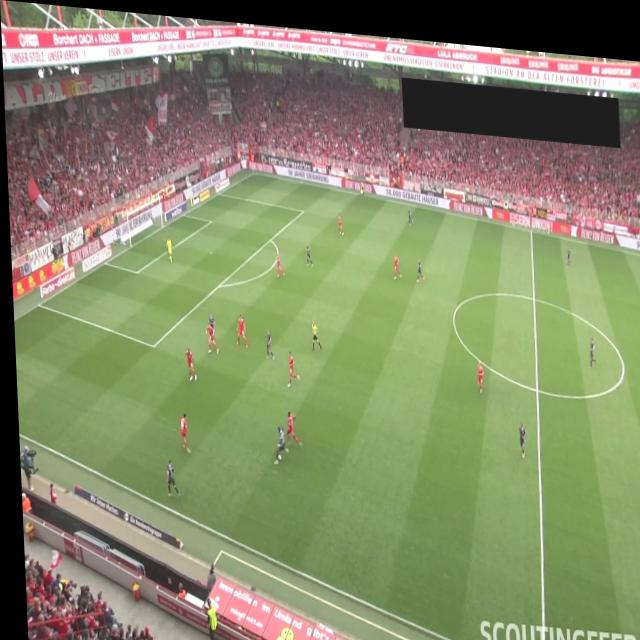goalkeeper: (163, 233, 171, 261)
player: (268, 419, 285, 460), (281, 405, 299, 443), (161, 456, 176, 497), (283, 346, 297, 383), (176, 408, 187, 451), (182, 343, 195, 378), (232, 309, 245, 344), (202, 318, 216, 350), (515, 412, 524, 449), (263, 323, 272, 356), (474, 350, 482, 385), (413, 249, 423, 275), (273, 247, 283, 273), (585, 325, 593, 356), (391, 246, 399, 273), (205, 309, 212, 339), (303, 237, 311, 262), (335, 208, 342, 229), (564, 236, 570, 255), (406, 199, 411, 218)
referee: (308, 314, 319, 346), (358, 172, 363, 190)
